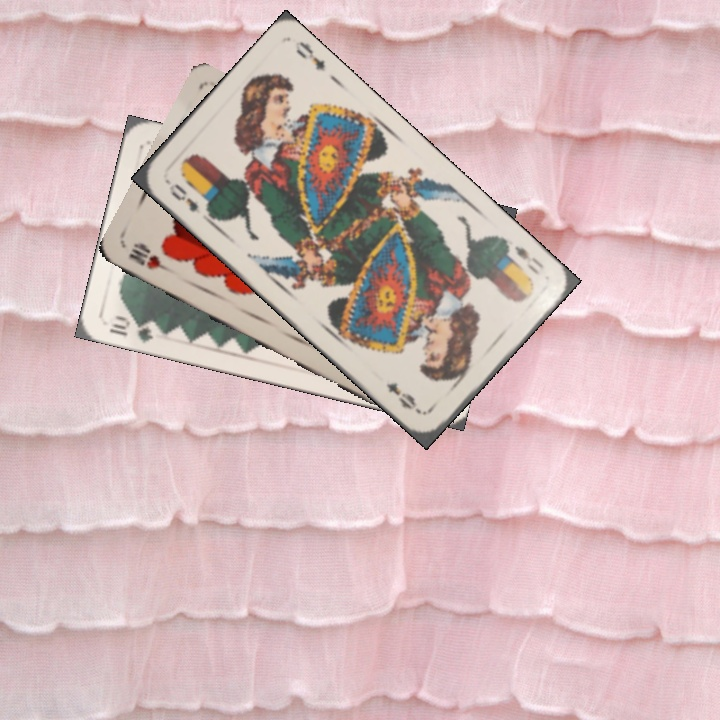EO: (162, 176, 213, 218), (510, 241, 547, 278)
G10: (104, 311, 156, 345)
H10: (125, 241, 178, 277)
